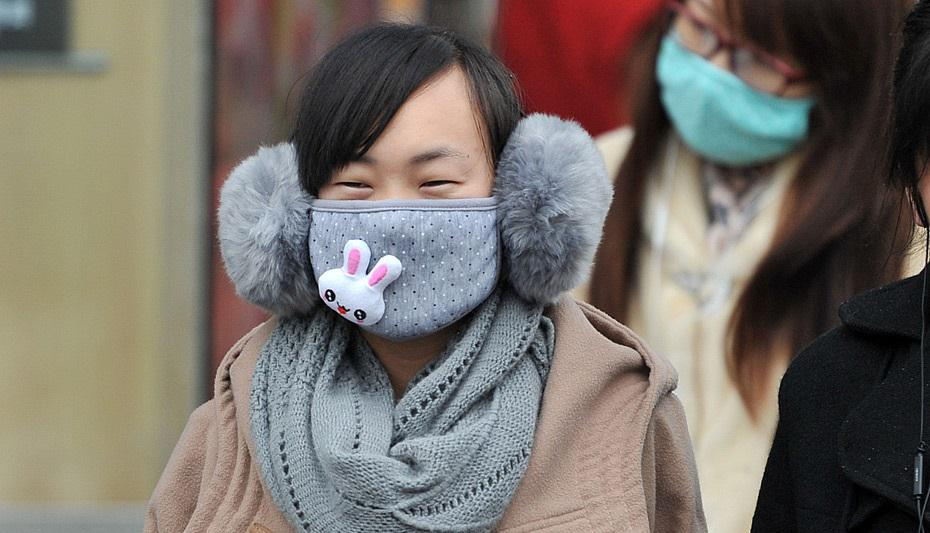OK: (309, 139, 492, 322), (664, 9, 809, 162)
